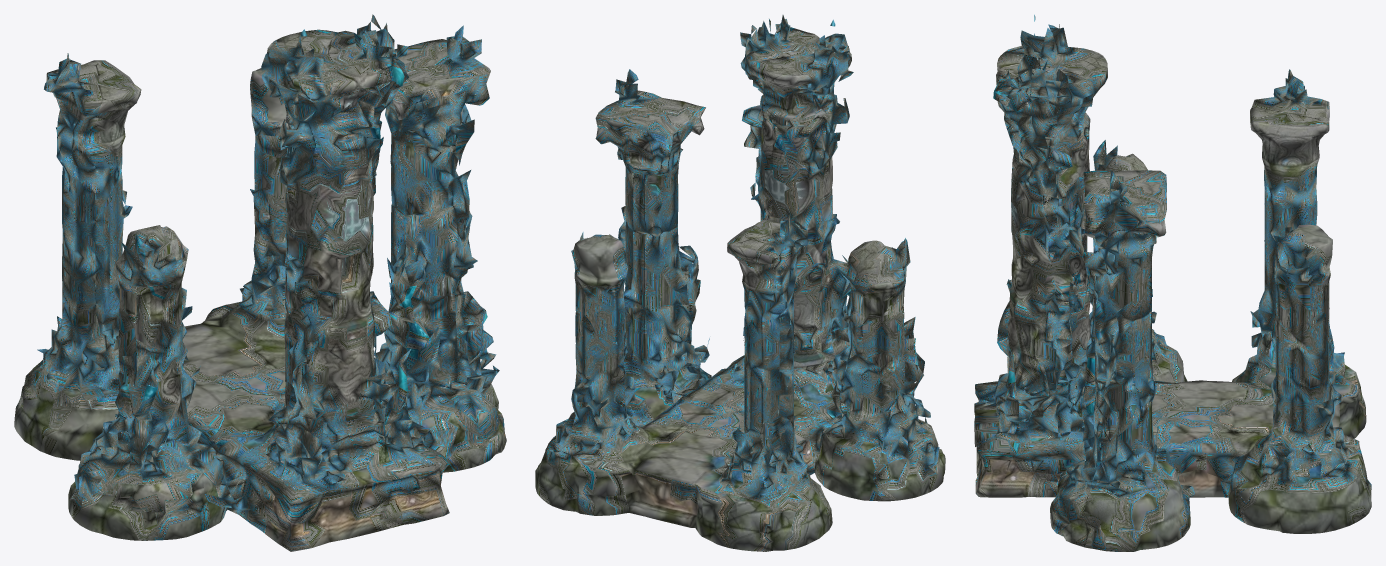
The model's file is pillars.glb.
The picture shows the model from 3 angles, left to right: view 1: azimuth 30°, elevation 25°; view 2: azimuth 150°, elevation 25°; view 3: azimuth 270°, elevation 25°; orthographic projection. The views are drawn at different scales.
Bounding box in the file's own units: 1.7 × 1.9 × 1.58.
Materials: 1 (1 with a texture image).
